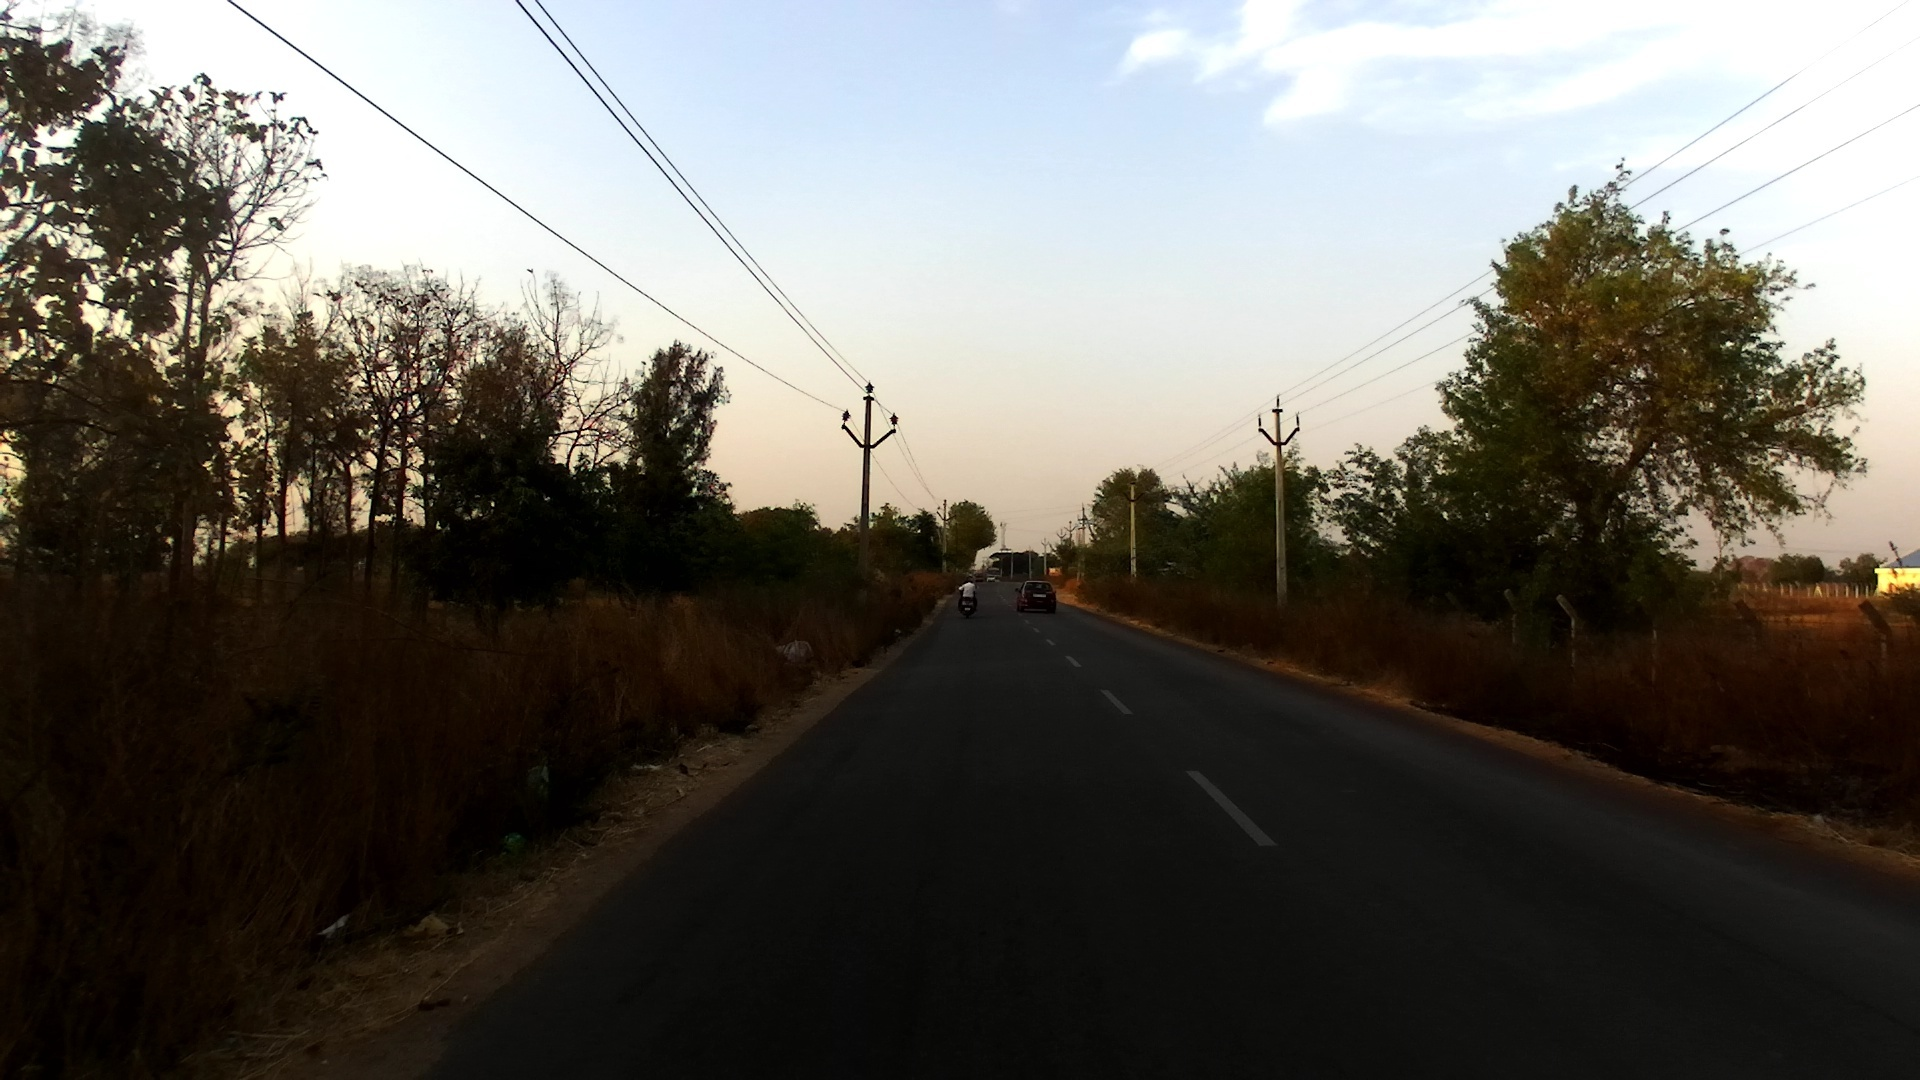autorickshaw: (974, 572, 983, 582)
car: (1012, 578, 1058, 615), (987, 576, 995, 582)
motorcycle: (958, 585, 979, 619)
rider: (959, 576, 982, 614), (962, 574, 978, 588)
